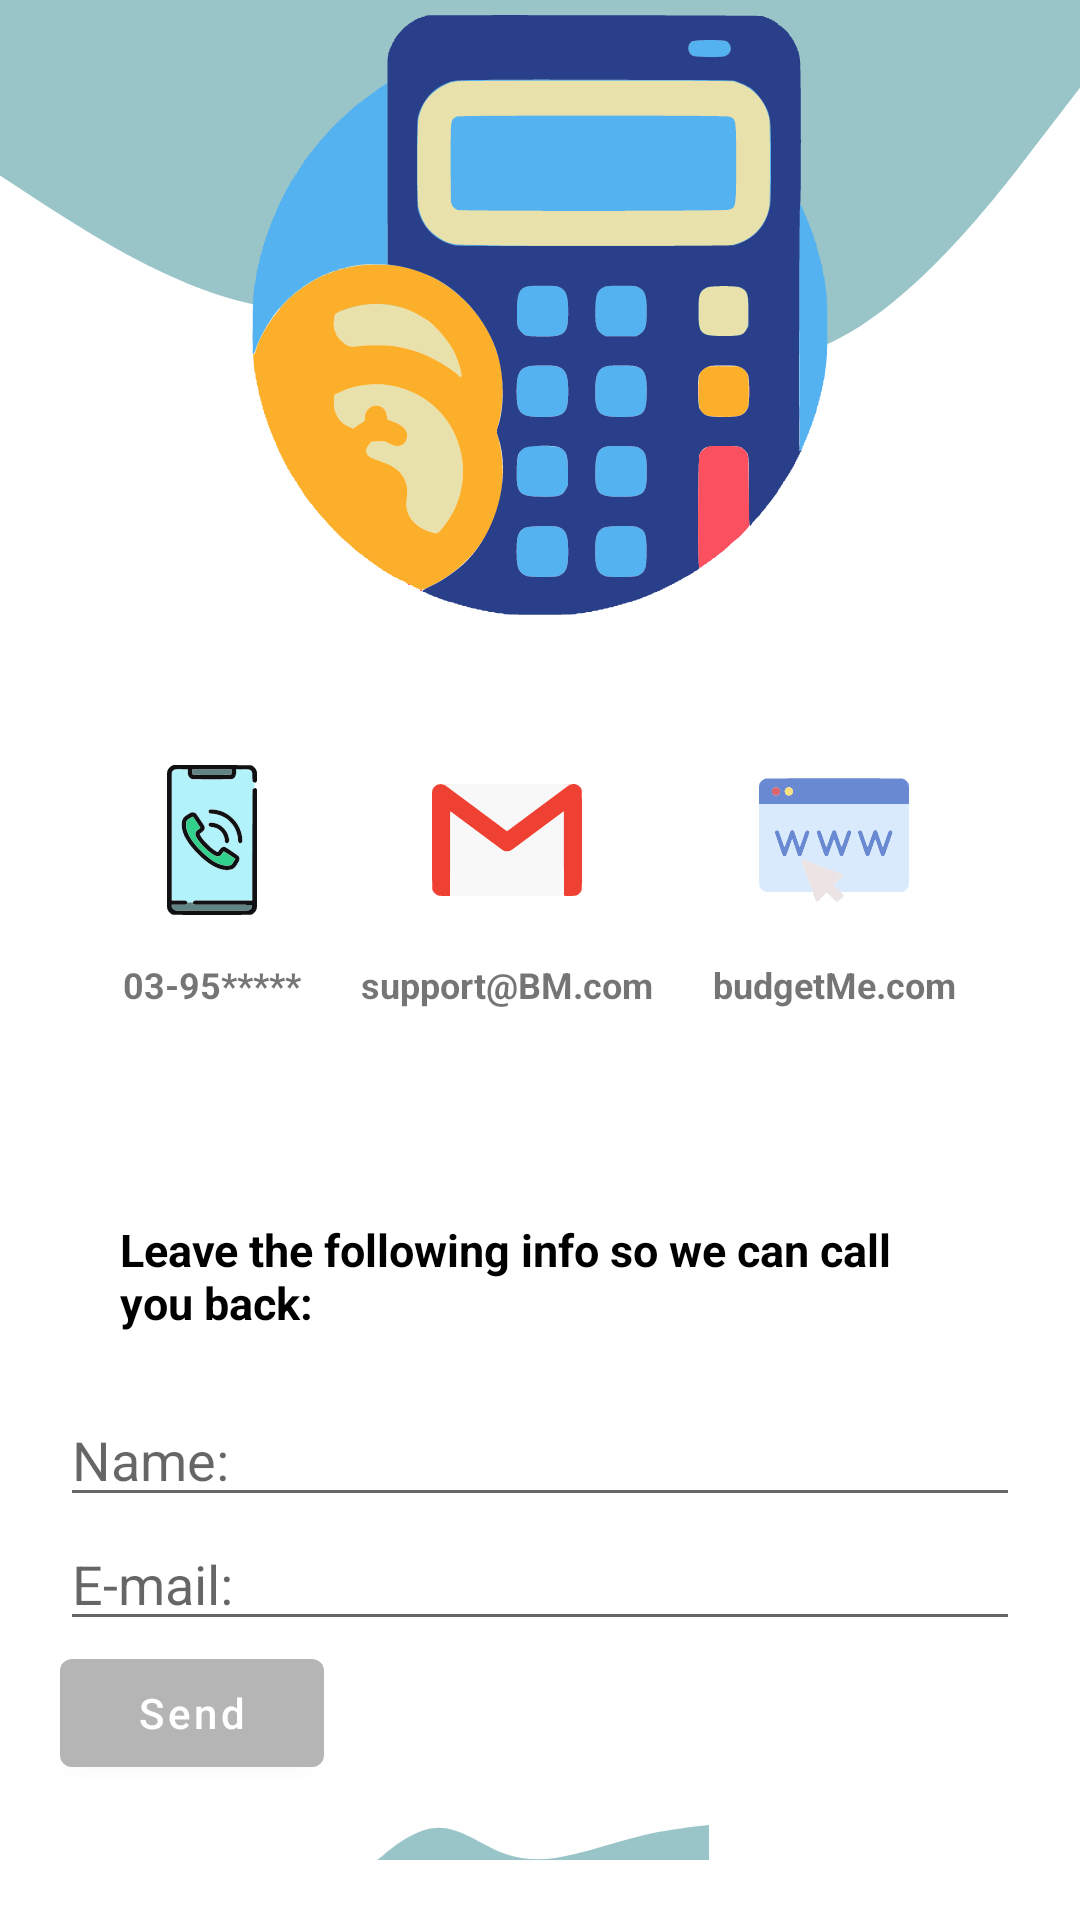

Screen size 1080px×1920px. Icon name, then its box in pixels as (x1, y1, x2, y2):
phone: (167, 765, 257, 915)
website: (759, 778, 909, 901)
